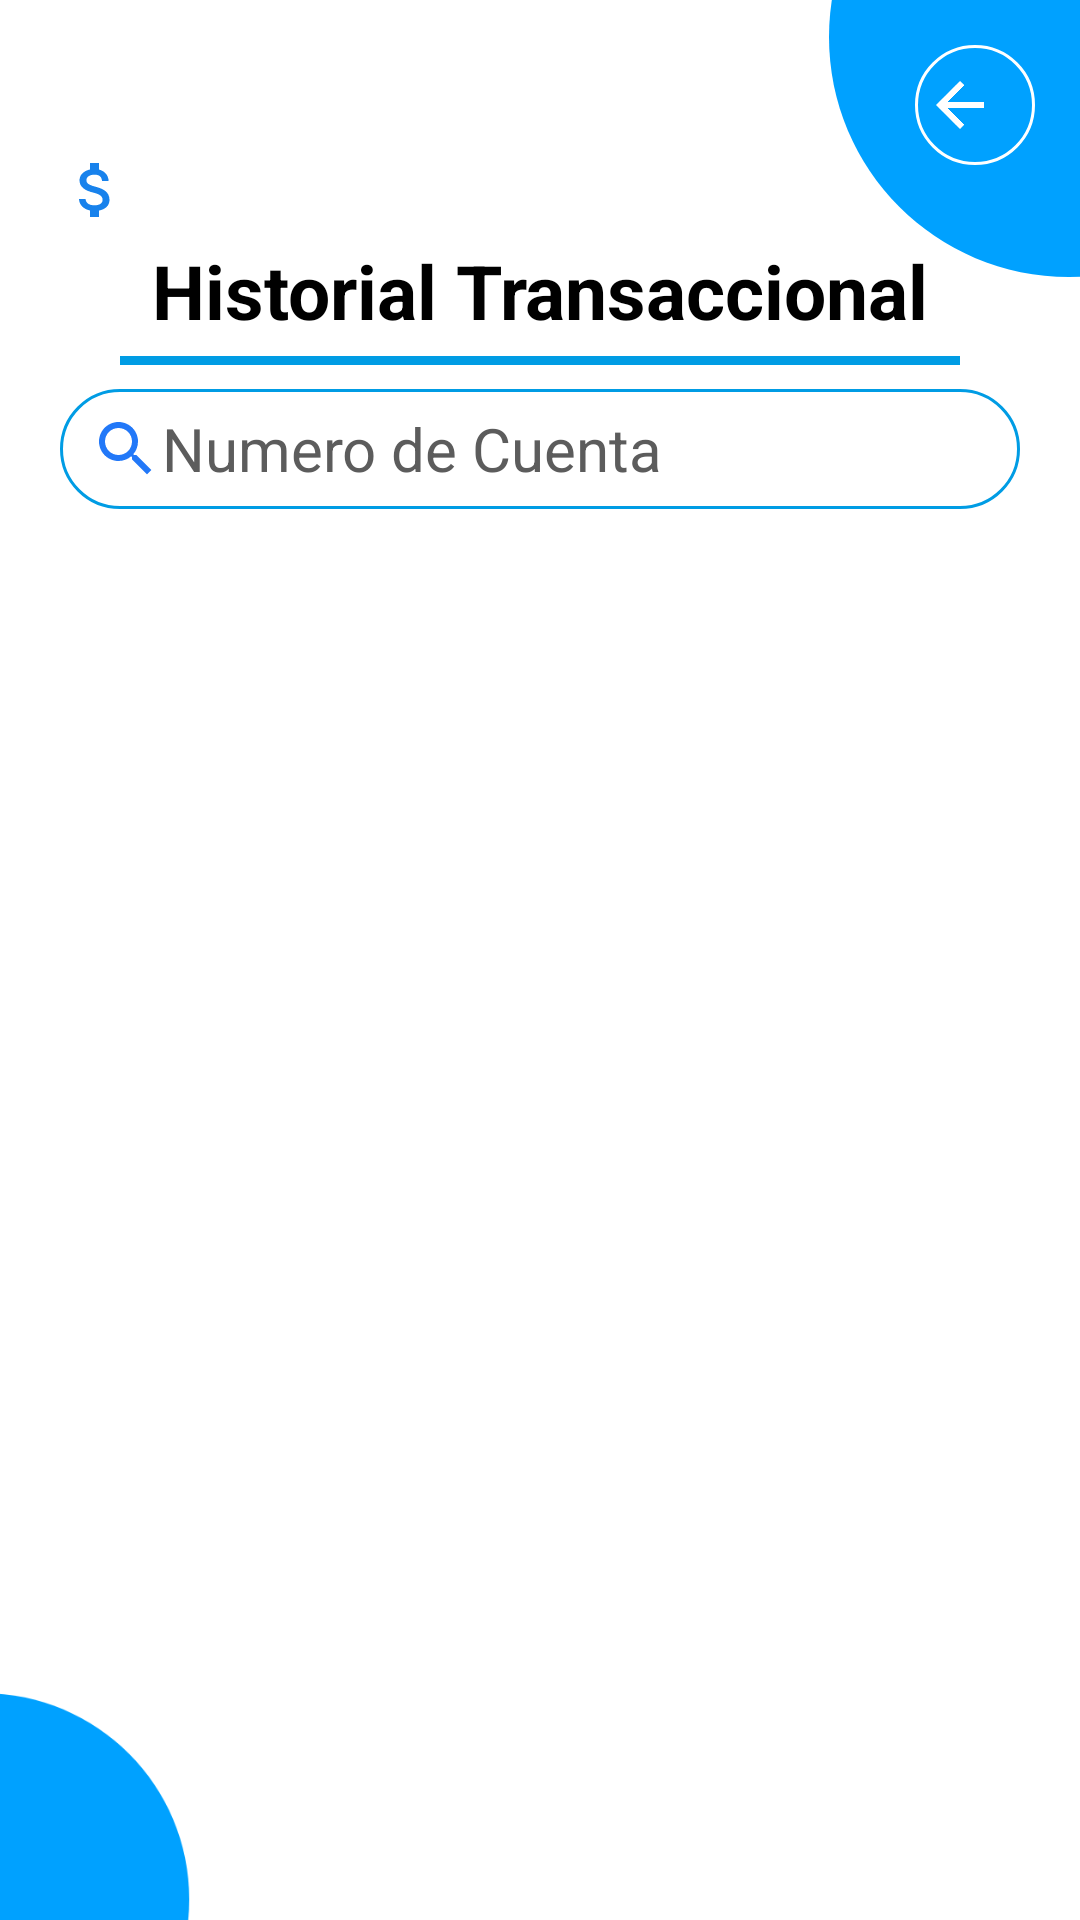

Locate icon controls on the screen. Image size 1080×1920, boxes as (x1, y1, x2, y2).
back: (915, 45, 1035, 165)
